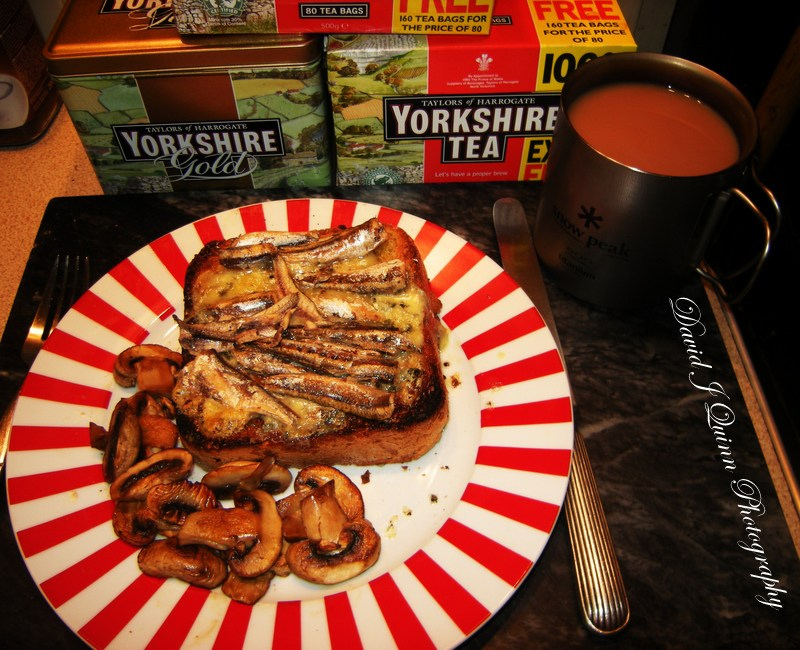slice of bread: (182, 239, 452, 464)
